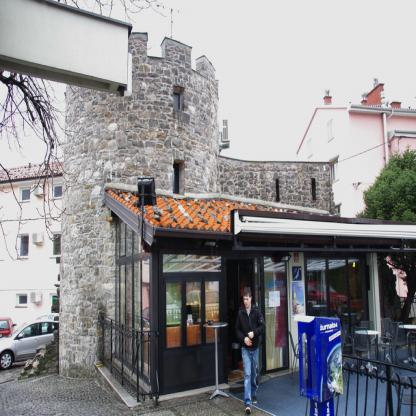Car: (0, 321, 53, 374), (0, 316, 14, 340), (34, 311, 59, 320)
